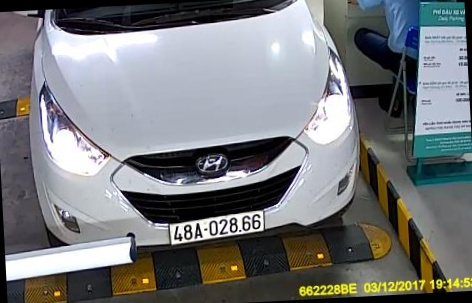plate: (162, 209, 269, 249)
